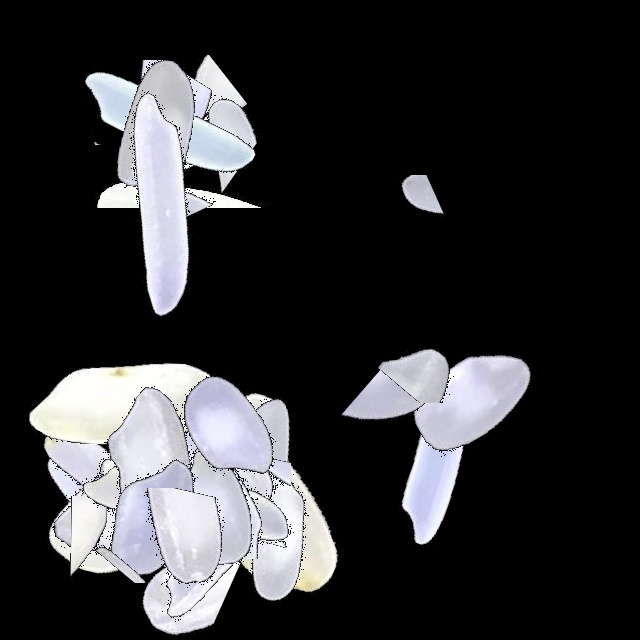Broken: (116, 386, 366, 559), (156, 387, 324, 637), (357, 388, 607, 548), (90, 390, 245, 640), (106, 390, 260, 640), (44, 488, 294, 640), (35, 499, 285, 640), (18, 60, 268, 197), (58, 68, 308, 199), (14, 510, 264, 640), (292, 361, 542, 490), (80, 436, 330, 557), (20, 417, 270, 526), (0, 496, 250, 605), (314, 296, 564, 403), (181, 353, 287, 603), (67, 103, 317, 208), (58, 55, 308, 159), (98, 500, 348, 603), (113, 0, 211, 250), (146, 34, 243, 284), (27, 486, 277, 583), (195, 377, 291, 627), (0, 51, 250, 145), (191, 387, 284, 637), (157, 325, 247, 575), (272, 175, 522, 264), (0, 368, 250, 447), (75, 496, 325, 573)
Full: (66, 370, 316, 620), (101, 361, 351, 611), (105, 383, 355, 633), (6, 373, 256, 623), (346, 272, 596, 522), (0, 379, 250, 629), (41, 342, 291, 592), (138, 379, 388, 629), (73, 365, 323, 615), (140, 340, 390, 590), (94, 327, 344, 577), (5, 390, 255, 640), (42, 0, 292, 250), (62, 385, 312, 635), (0, 279, 250, 529), (32, 340, 282, 590), (33, 0, 283, 250), (31, 79, 281, 329), (86, 381, 336, 631), (28, 390, 278, 640), (103, 303, 353, 553)
